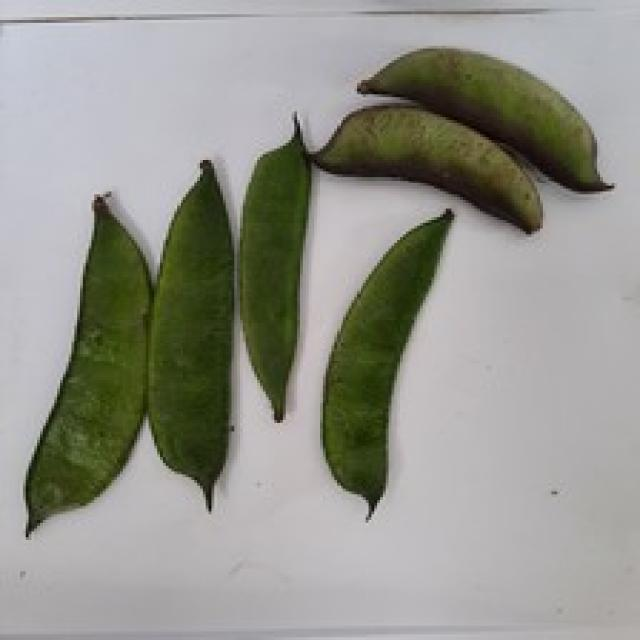Bean: (23, 189, 151, 537), (320, 206, 454, 520), (354, 43, 614, 191), (303, 100, 543, 234), (146, 157, 234, 512), (237, 109, 312, 420)
